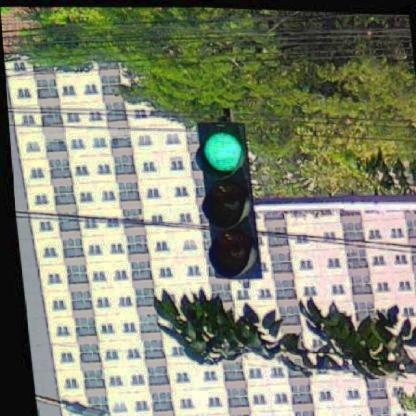Traffic Light -Green-: (188, 119, 260, 282)
